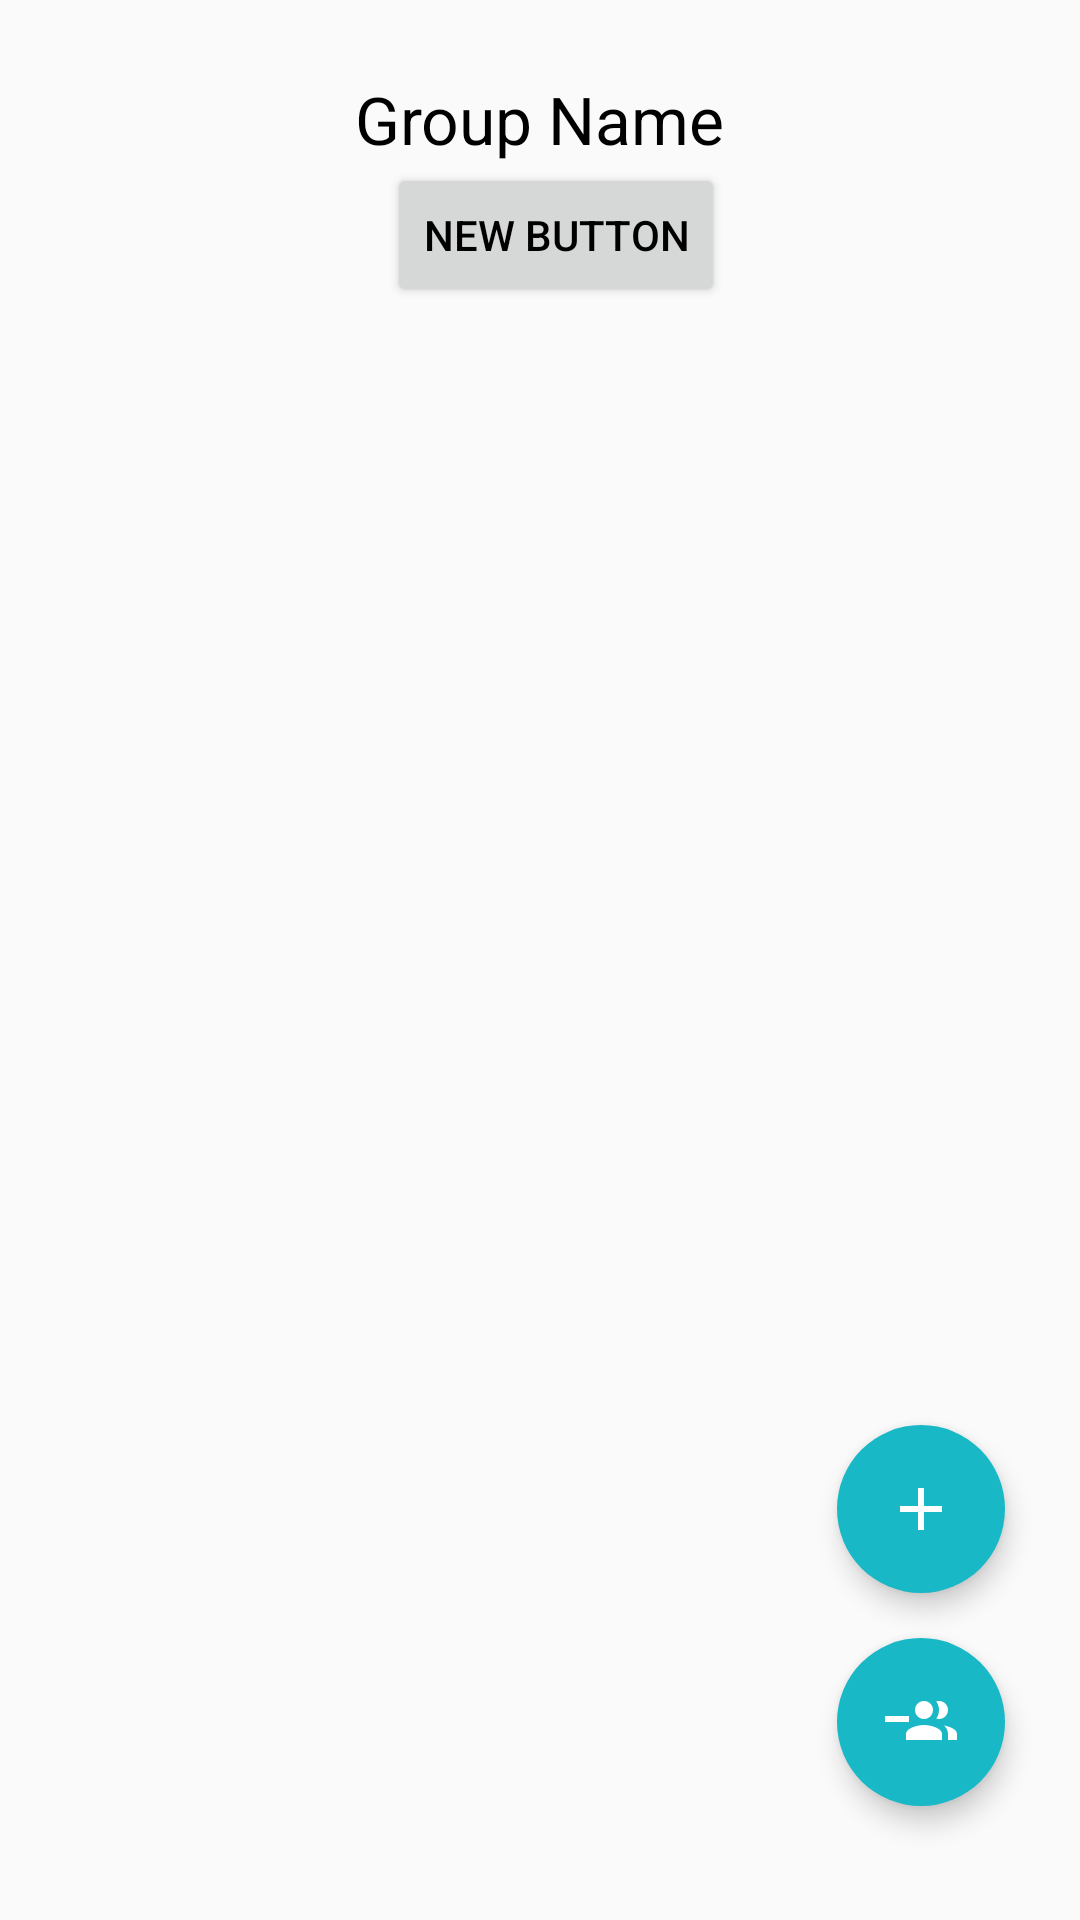

Point at icon controls on the screen. Image size 1080*1920, points as point (x, y).
add: point (921, 1509)
disband group: point (921, 1722)
